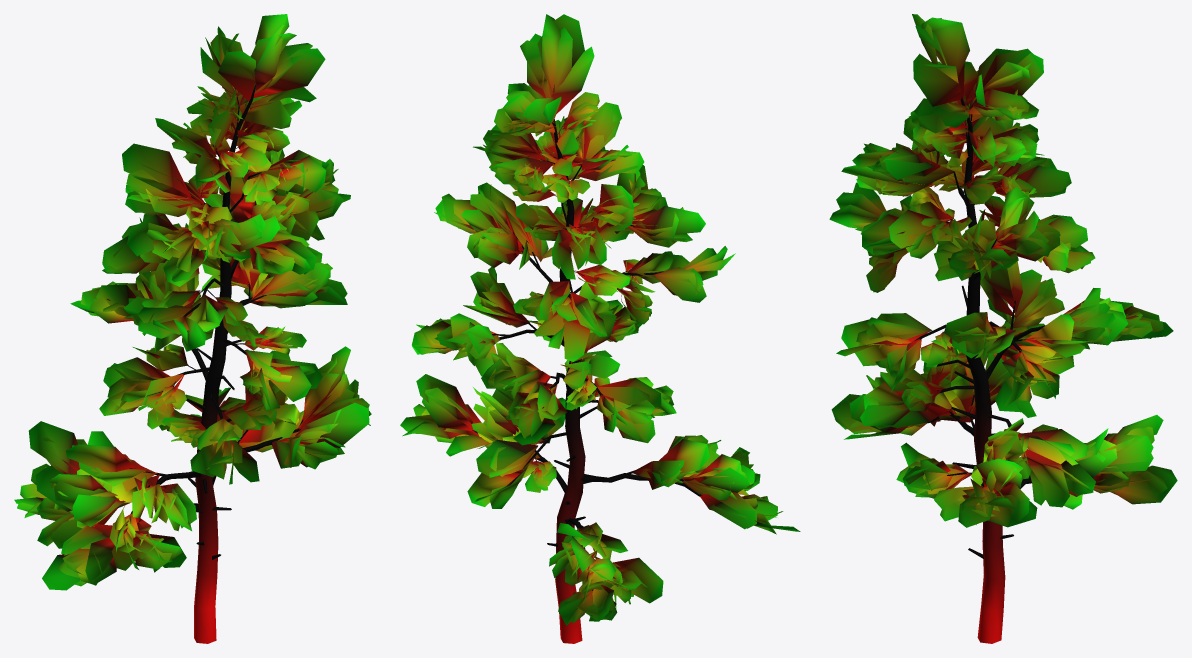
File: Pine_4_LOD_1.fbx
3 renders of one model, left to right at view 1: azimuth 30°, elevation 25°; view 2: azimuth 150°, elevation 25°; view 3: azimuth 270°, elevation 25°, orthographic. The views are drawn at different scales.
Visible parts, largest first — view 1: Pine_4_LOD_1; view 2: Pine_4_LOD_1; view 3: Pine_4_LOD_1.
Boxes of the visible parts, left/top/right/bottom form: Pine_4_LOD_1: left=14, top=14, right=371, bottom=643; Pine_4_LOD_1: left=400, top=14, right=800, bottom=643; Pine_4_LOD_1: left=829, top=14, right=1177, bottom=643.
Size of the model in its own units: 9.88 by 16.43 by 7.99.
